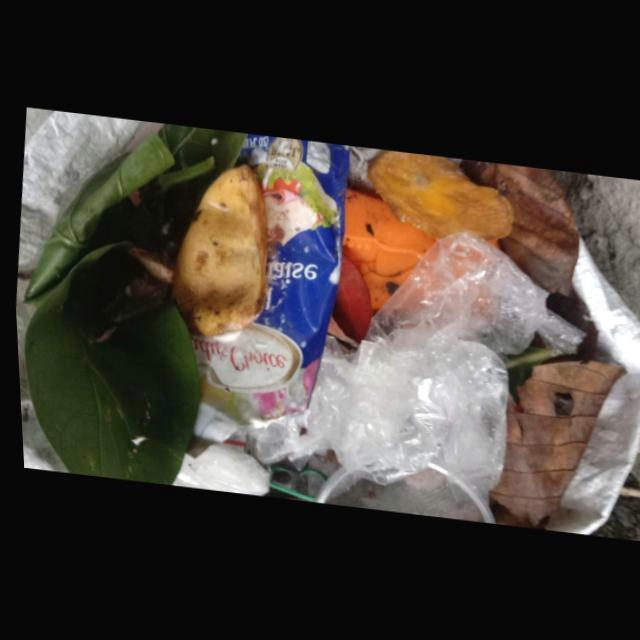plastic_bag: (311, 231, 579, 523)
plastic_sachet: (182, 133, 348, 456)
